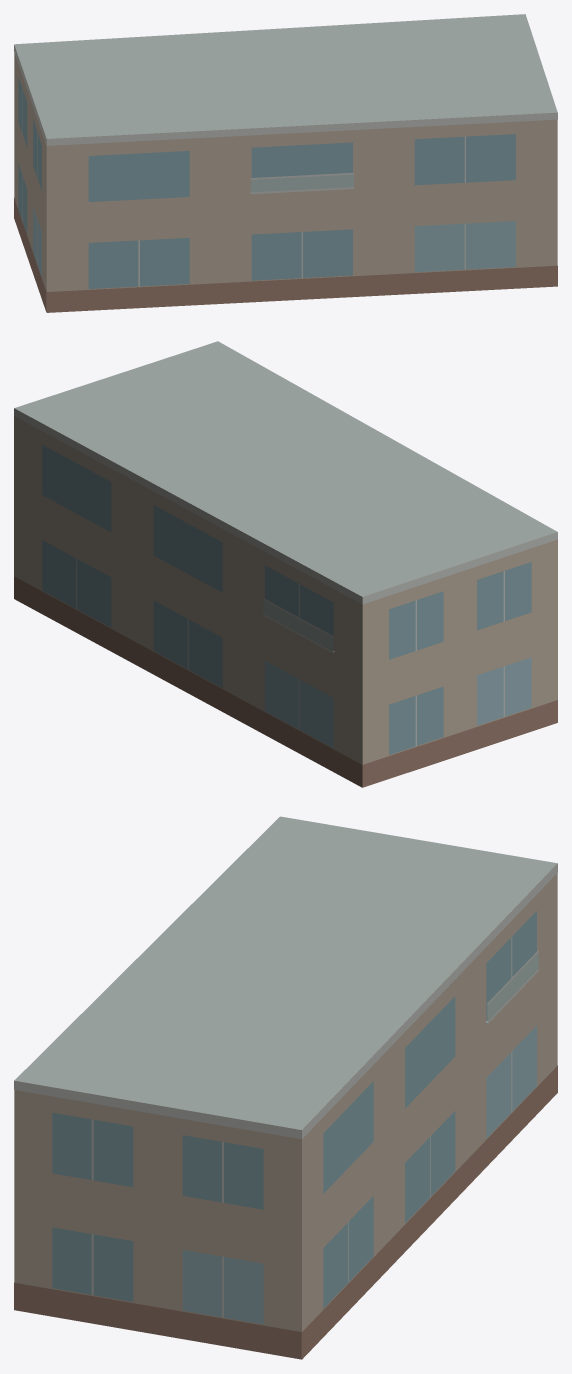
File: survey-upis-32714701.glb
3 views of the same model, one above another, from view 1: azimuth 30°, elevation 25°; view 2: azimuth 150°, elevation 25°; view 3: azimuth 270°, elevation 25° (orthographic). The views are drawn at different scales.
Parts seen in each view (by area): view 1: survey-upis-32714701.tmp; view 2: survey-upis-32714701.tmp; view 3: survey-upis-32714701.tmp.
Boxes of the visible parts, left/top/right/bottom form: survey-upis-32714701.tmp: left=14, top=14, right=557, bottom=312; survey-upis-32714701.tmp: left=14, top=341, right=557, bottom=787; survey-upis-32714701.tmp: left=14, top=816, right=557, bottom=1359.
Bounding box in the file's own units: 17.9 × 6.1 × 13.11.
